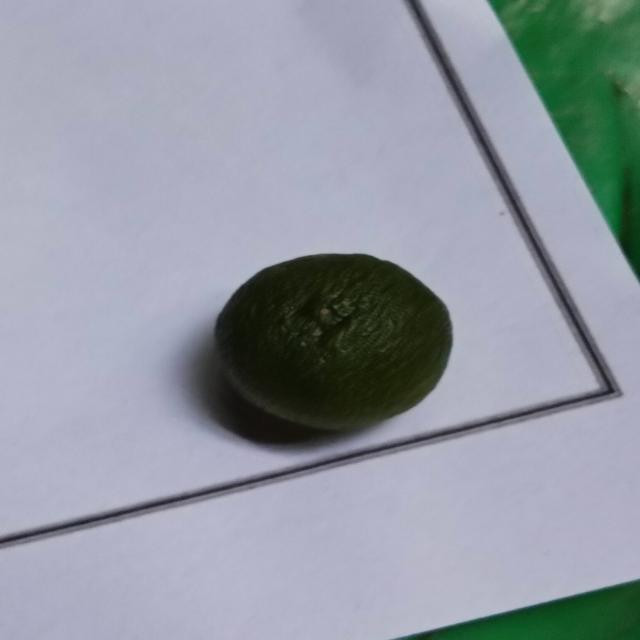heathy: (209, 249, 472, 452)
